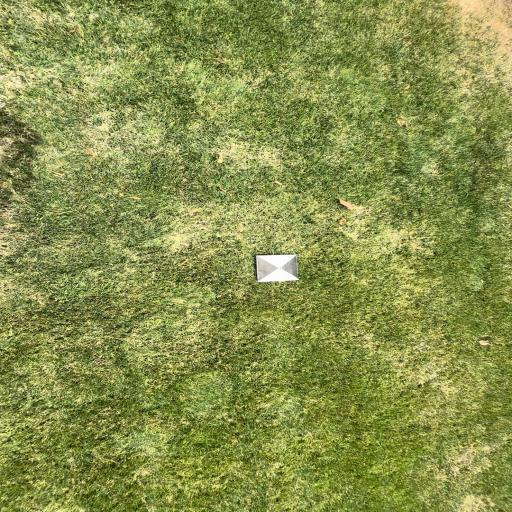target: (256, 255, 298, 281)
